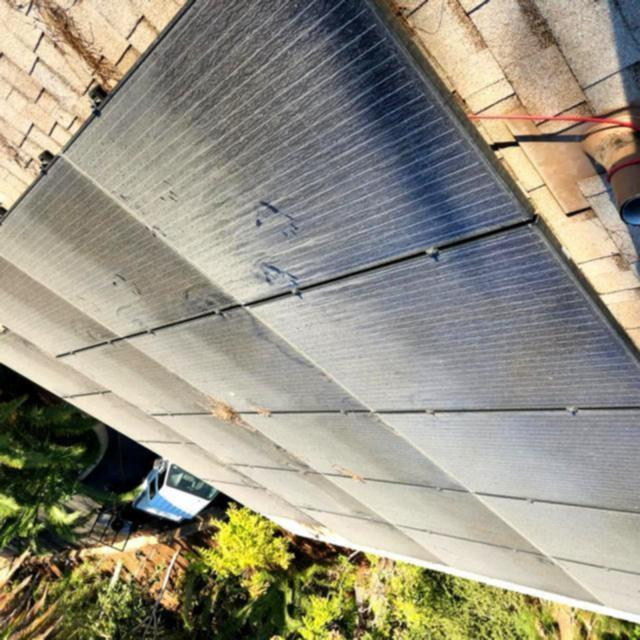soiled: (12, 0, 640, 610)
